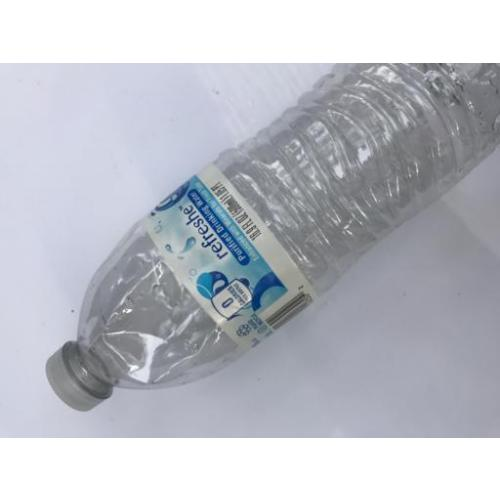plastic: (47, 62, 499, 414)
